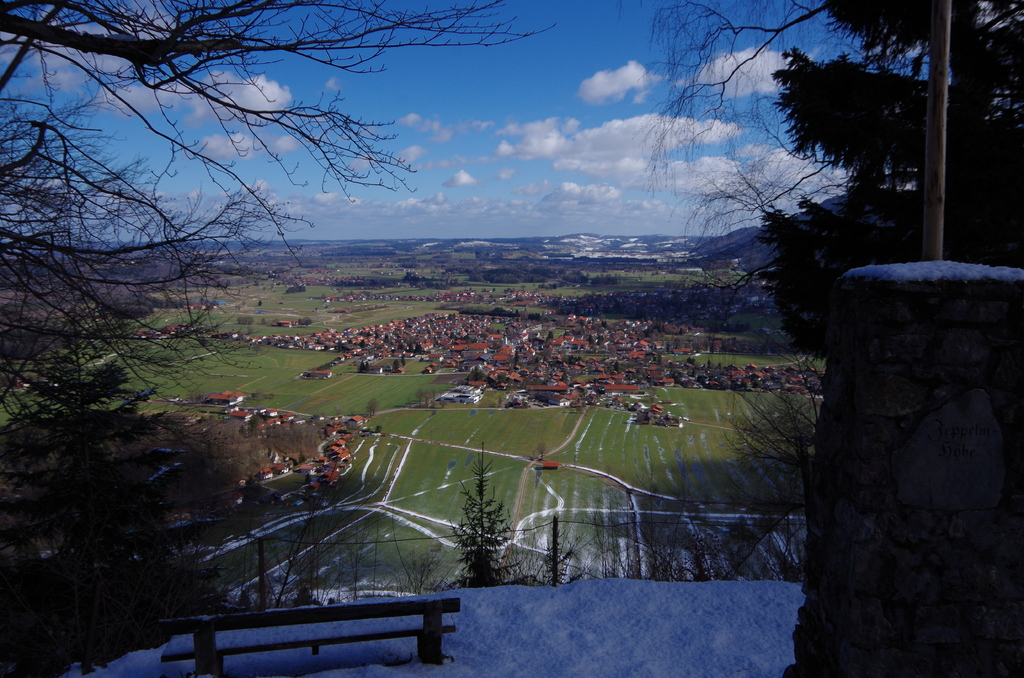Tree: (0, 0, 622, 527), (756, 1, 1023, 363)
